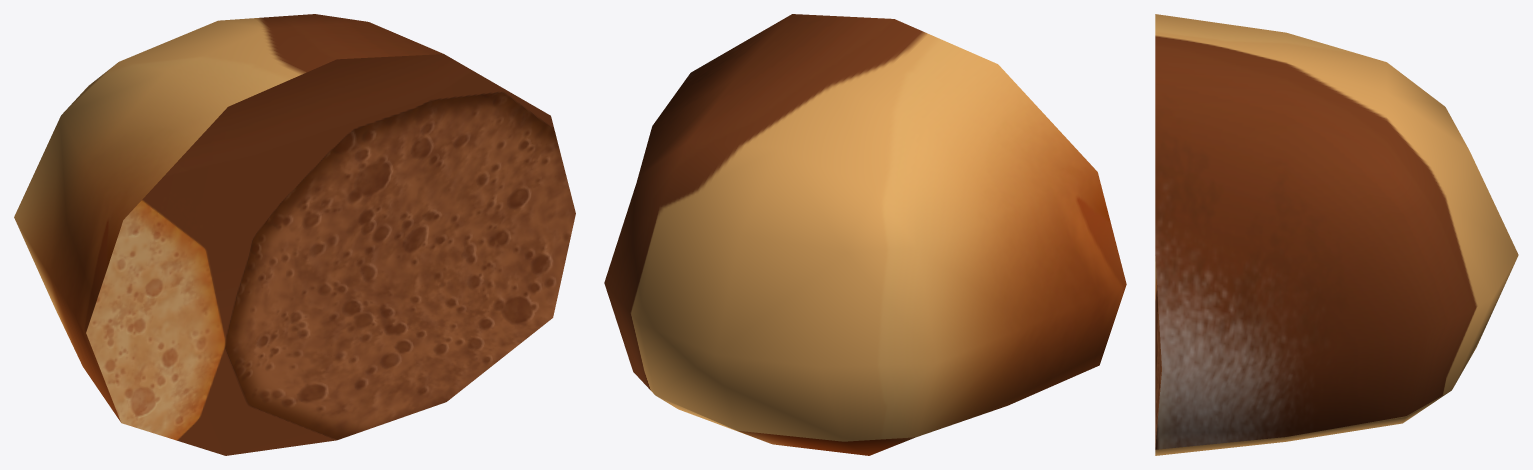
Rendered from French_01_End.fbx.
3 views of the same model, side by side, from view 1: azimuth 30°, elevation 25°; view 2: azimuth 150°, elevation 25°; view 3: azimuth 270°, elevation 25° (orthographic). The views are drawn at different scales.
Parts seen in each view (by area): view 1: French_01_End; view 2: French_01_End; view 3: French_01_End.
Part boxes in pixels (box(x1,y1,x2,y2)): French_01_End: box(14, 14, 575, 455); French_01_End: box(604, 14, 1126, 455); French_01_End: box(1155, 14, 1518, 455).
Bounding box in the file's own units: 34.01 × 25.28 × 22.51.
